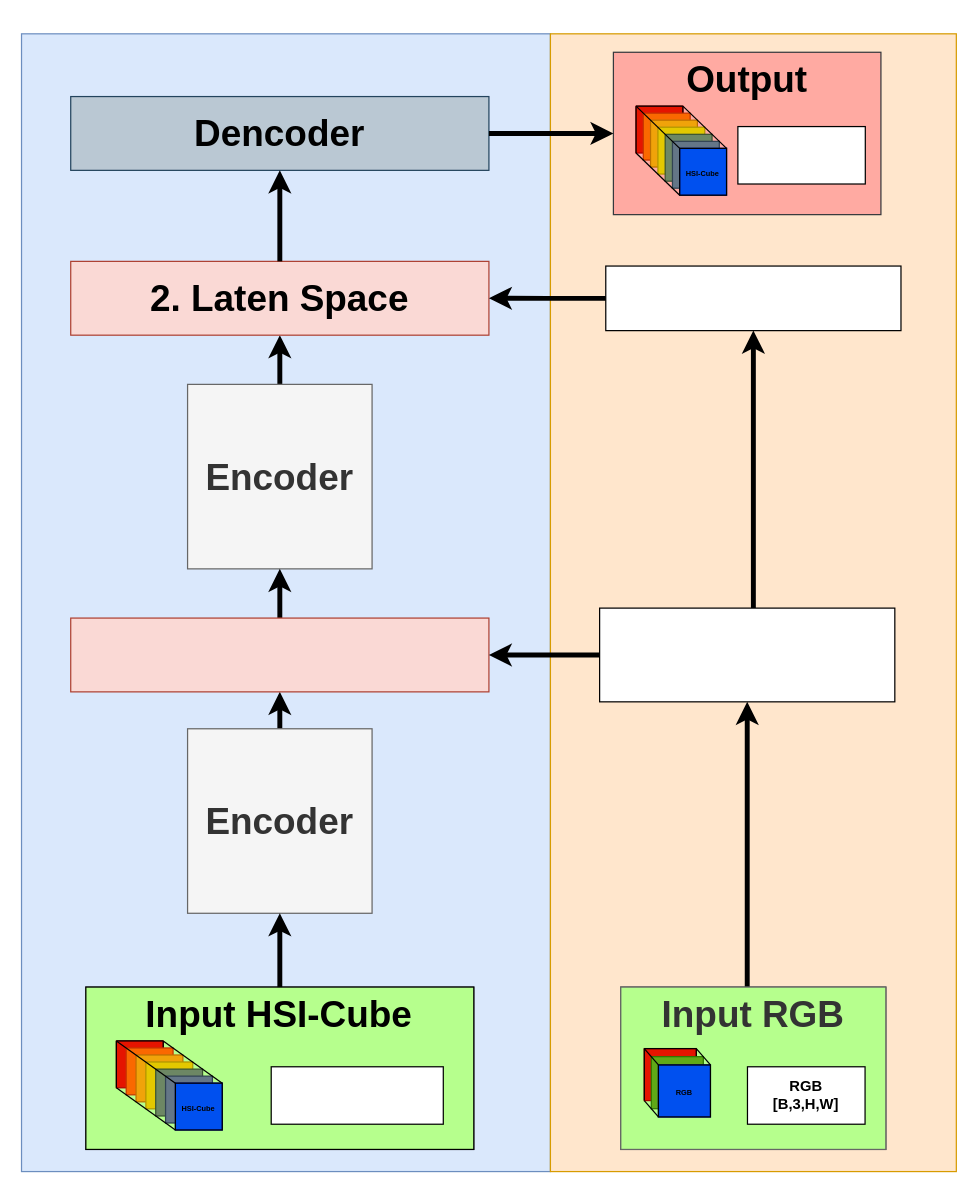
This 978x1202 diagram has some shape labels left out. The shapes that lost their labels are listed below. From the top down, each one's centre as x and y in pixels, then its label:
point 801,154: HSI-Cube [B*H*W,1,31]
point 753,298: 2. Student
point 279,654: 1. Laten Space
point 746,654: 1. Student
point 356,1095: HSI-Cube [B,H,W,1,31]
